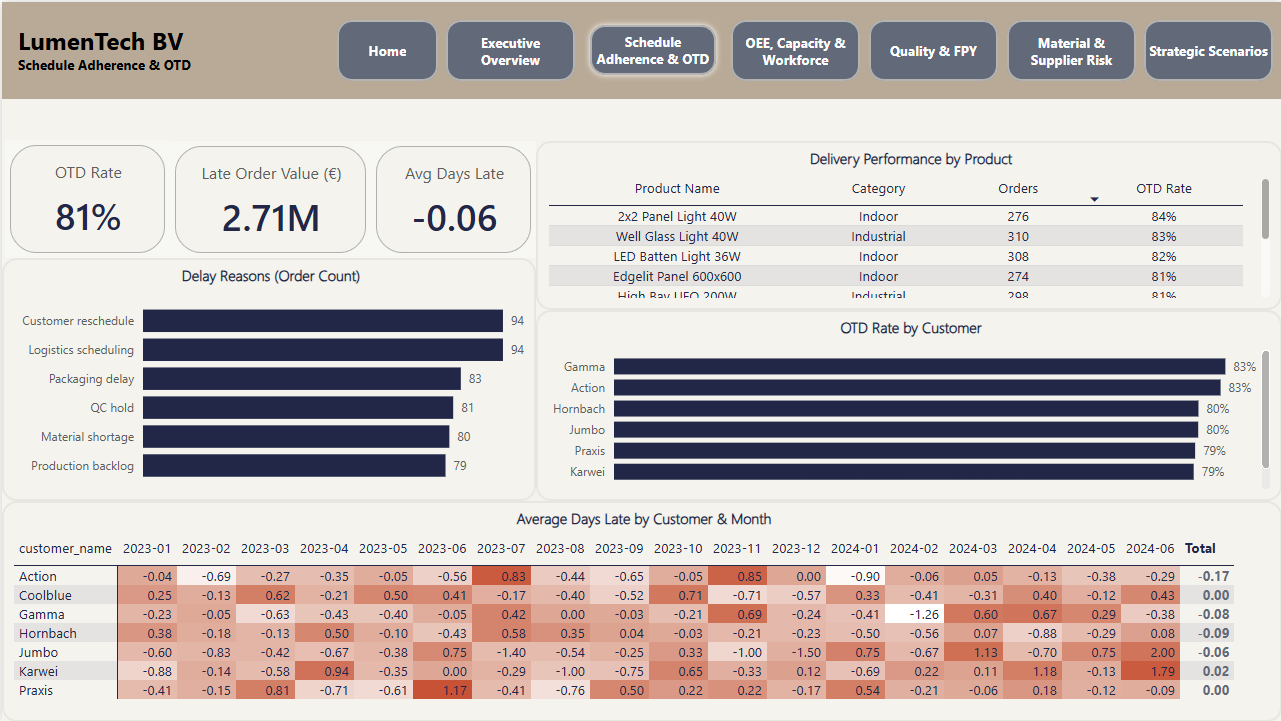

This screenshot's page, from the dashboard's own definition file:
{"tool":"powerbi","page":{"name":"Schedule Adherence & OTD","canvas":[1280,720],"ordinal":2},"visuals":[{"type":"shape","box":[0,0,1280,97],"z":0},{"type":"cardVisual","fields":{"Data":["mart_schedule_adherence.OTD Rate"]},"box":[2.8,138.4,165.1,117.6],"z":1000},{"type":"cardVisual","fields":{"Data":["Sum(mart_schedule_adherence.late_order_value_eur)"]},"box":[167.5,138.8,201.2,117.5],"z":2000},{"type":"cardVisual","fields":{"Data":["Avg(mart_schedule_adherence.days_late)"]},"box":[368.8,138.8,165,117.5],"z":3000},{"type":"barChart","title":"Delay Reasons (Order Count)","fields":{"Category":["mart_schedule_adherence.delay_reason"],"Y":["CountNonNull(mart_schedule_adherence.order_id)"]},"box":[0,256.2,533.8,242.5],"z":4000},{"type":"pivotTable","title":"Average Days Late by Customer & Month","fields":{"Rows":["mart_schedule_adherence.customer_name"],"Columns":["mart_schedule_adherence.year_month"],"Values":["Avg(mart_schedule_adherence.days_late)"]},"box":[0,498.8,1280,221.2],"z":5000},{"type":"barChart","title":"OTD Rate by Customer","fields":{"Category":["mart_schedule_adherence.customer_name"],"Y":["mart_schedule_adherence.OTD Rate"]},"box":[533.8,307.5,746.2,191.2],"z":6000},{"type":"tableEx","title":"Delivery Performance by Product","fields":{"Values":["mart_schedule_adherence.product_name","mart_schedule_adherence.category","mart_schedule_adherence.order_id","mart_schedule_adherence.OTD Rate"]},"box":[533.8,138.8,746.2,168.8],"z":7000},{"type":"actionButton","title":"Home","box":[335.4,18.4,100.1,60.6],"z":8000},{"type":"actionButton","title":"Home","box":[444.3,18.4,129.1,60.6],"z":9000},{"type":"actionButton","title":"Home","box":[582.1,17,138,62],"z":10000},{"type":"actionButton","title":"Home","box":[728.9,18.4,129.1,60.6],"z":11000},{"type":"actionButton","title":"Home","box":[866.7,18.4,129.1,60.6],"z":12000},{"type":"actionButton","title":"Home","box":[1004.5,18.4,129.1,60.6],"z":13000},{"type":"actionButton","title":"Home","box":[1142.3,18.4,129.1,60.6],"z":14000},{"type":"textbox","box":[71,17,218,63],"z":15000},{"type":"image","box":[0,9,71,79],"z":15001}]}

Visuals, with their boxes in screenshot pixels (x1, y1, x2, y2), scaled from the page's 1280x720 canvas onto the 1281x721 screenshot:
shape: crop(0, 0, 1280, 97)
cardVisual - mart_schedule_adherence.OTD Rate: crop(3, 139, 168, 256)
cardVisual - Sum(mart_schedule_adherence.late_order_value_eur): crop(168, 139, 369, 257)
cardVisual - Avg(mart_schedule_adherence.days_late): crop(369, 139, 534, 257)
"Delay Reasons (Order Count)" barChart: crop(0, 257, 534, 499)
"Average Days Late by Customer & Month" pivotTable: crop(0, 499, 1280, 720)
"OTD Rate by Customer" barChart: crop(534, 308, 1280, 499)
"Delivery Performance by Product" tableEx: crop(534, 139, 1280, 308)
"Home" actionButton: crop(336, 18, 436, 79)
"Home" actionButton: crop(445, 18, 574, 79)
"Home" actionButton: crop(583, 17, 721, 79)
"Home" actionButton: crop(729, 18, 859, 79)
"Home" actionButton: crop(867, 18, 997, 79)
"Home" actionButton: crop(1005, 18, 1134, 79)
"Home" actionButton: crop(1143, 18, 1272, 79)
textbox: crop(71, 17, 289, 80)
image: crop(0, 9, 71, 88)
